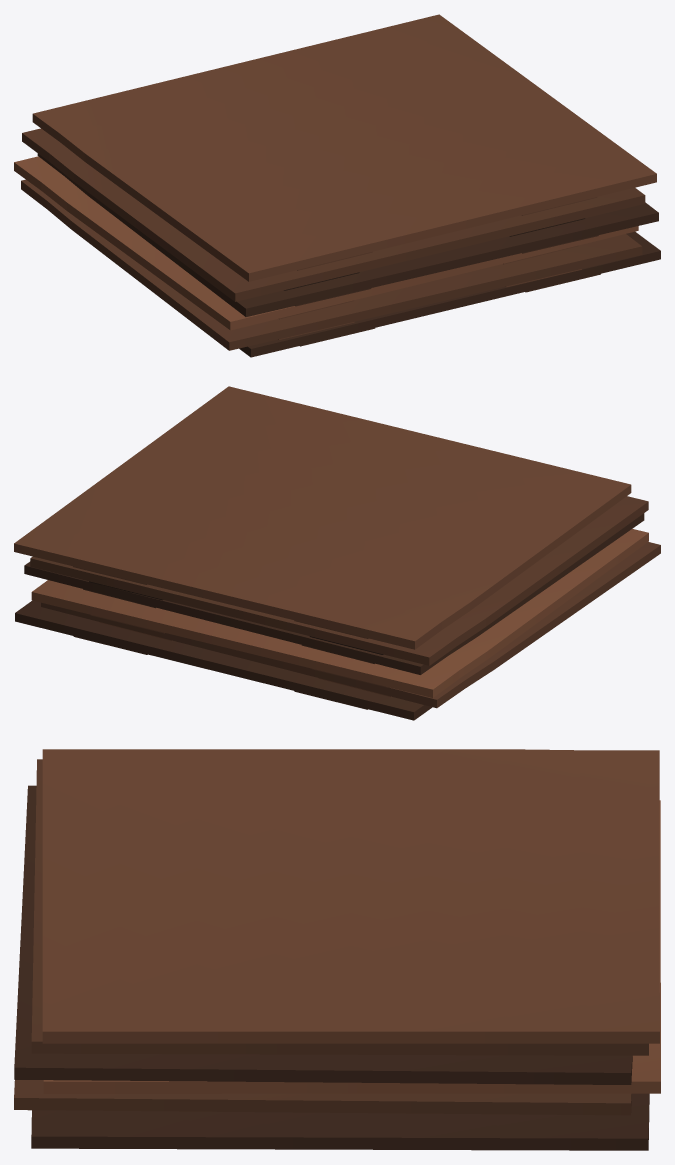
The model's file is Multiple Med Cherry Crate Lids.fbx.
3 renders of one model, top to bottom at view 1: azimuth 30°, elevation 25°; view 2: azimuth 150°, elevation 25°; view 3: azimuth 270°, elevation 25°, orthographic. The views are drawn at different scales.
Parts seen in each view (by area): view 1: Med Multiple Cherry Crate Lids; view 2: Med Multiple Cherry Crate Lids; view 3: Med Multiple Cherry Crate Lids.
Part boxes in pixels (x1,y1,x2,y2): Med Multiple Cherry Crate Lids: [14, 14, 660, 357]; Med Multiple Cherry Crate Lids: [14, 386, 660, 720]; Med Multiple Cherry Crate Lids: [14, 749, 660, 1150].
Bounding box in the file's own units: 43.18 × 201 × 222.
1 material, 1 textured.
